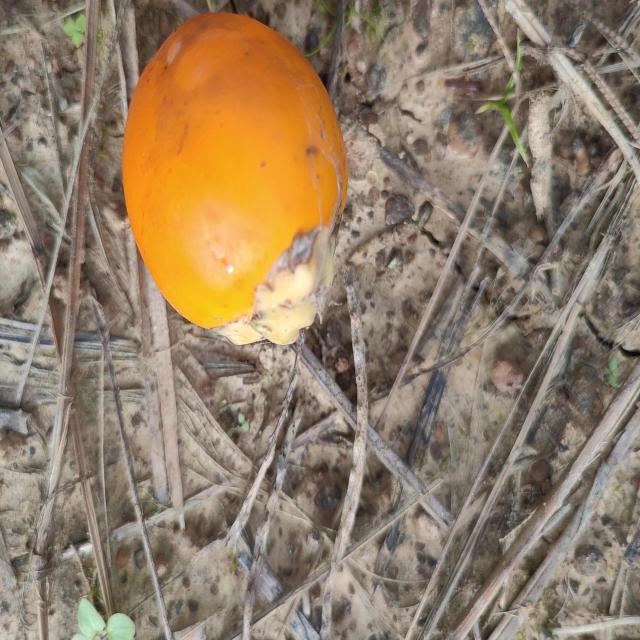good: (121, 13, 350, 344)
